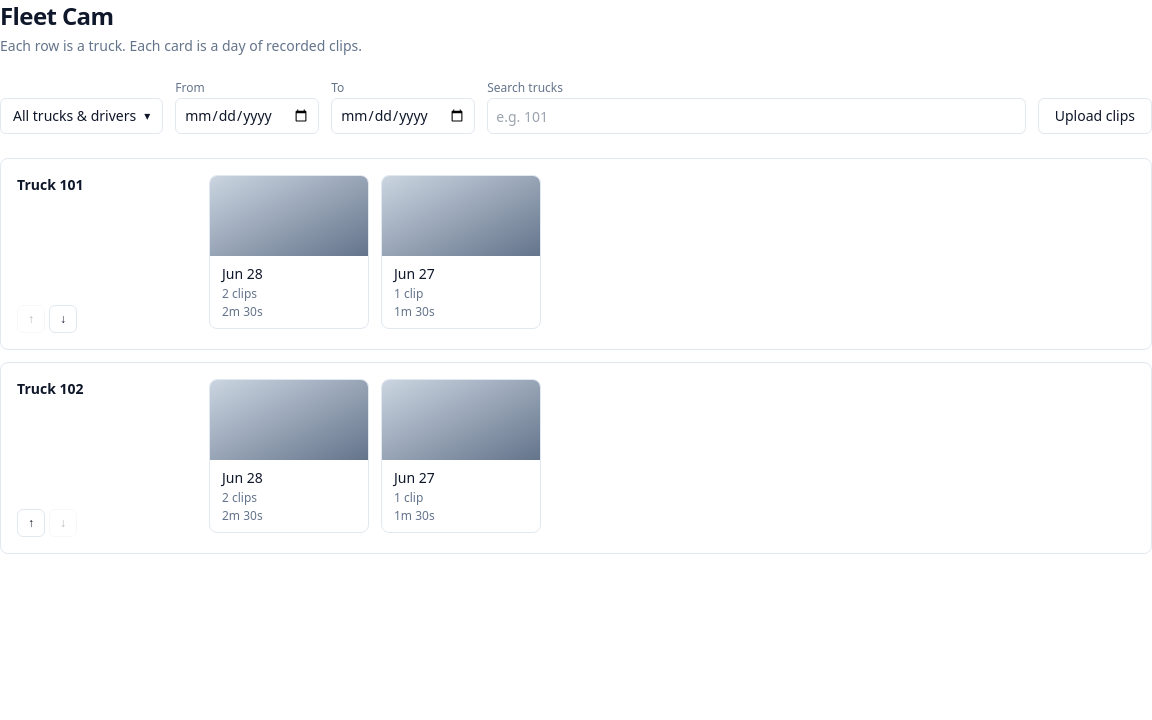
it: DashcamPage › commits picker selection to the URL via Apply
The width and height of the screenshot is (1152, 720).
Click the button with test id "truck-driver-picker-trigger": (82, 116) [0, 98, 163, 134]
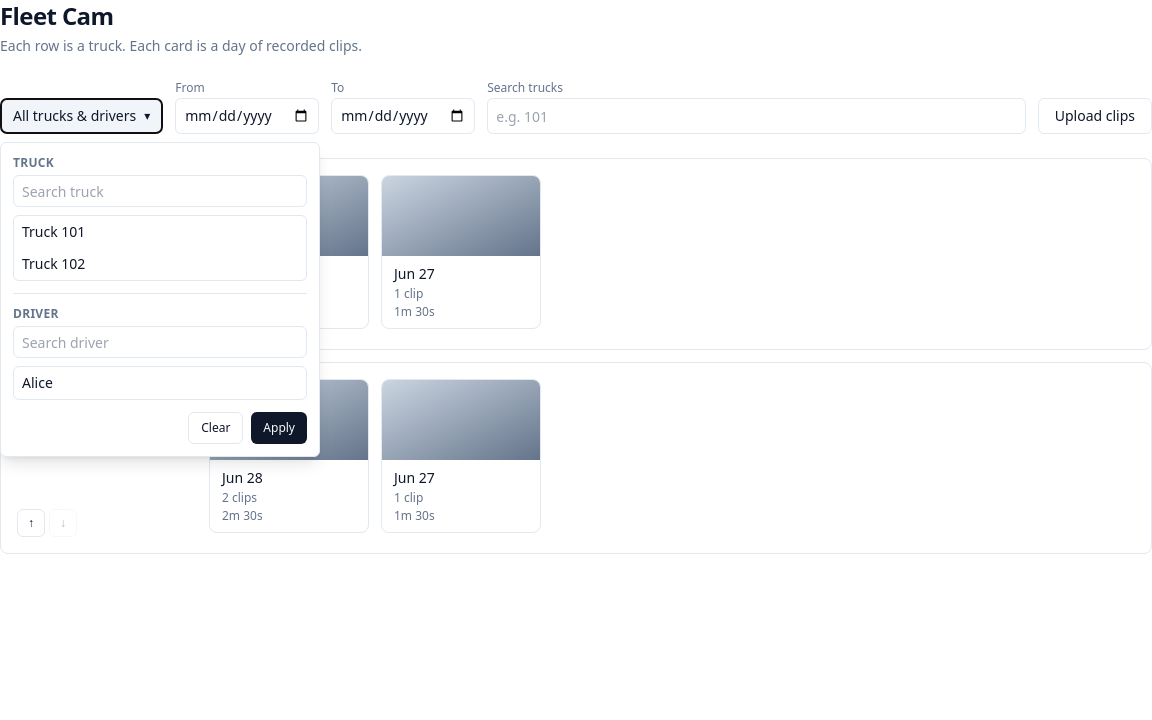
Click the button with test id "truck-driver-picker-truck-t2": (54, 264) [14, 248, 306, 280]
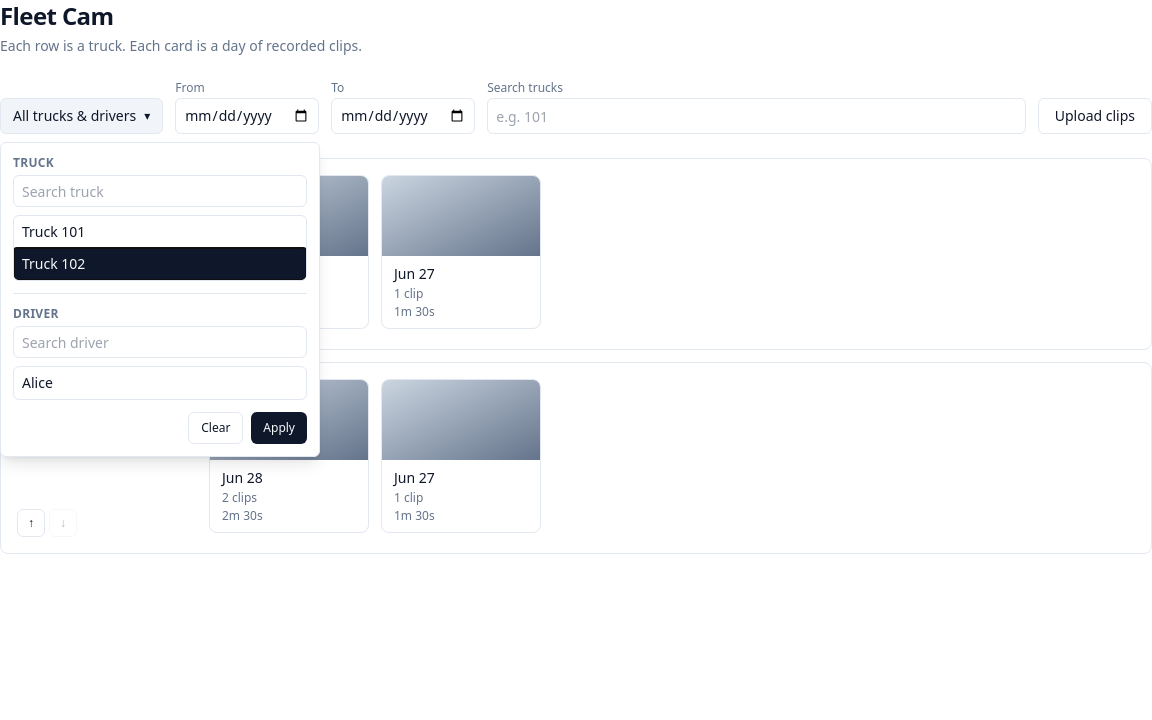
Click the button with test id "truck-driver-picker-apply": (279, 428) [251, 412, 307, 444]
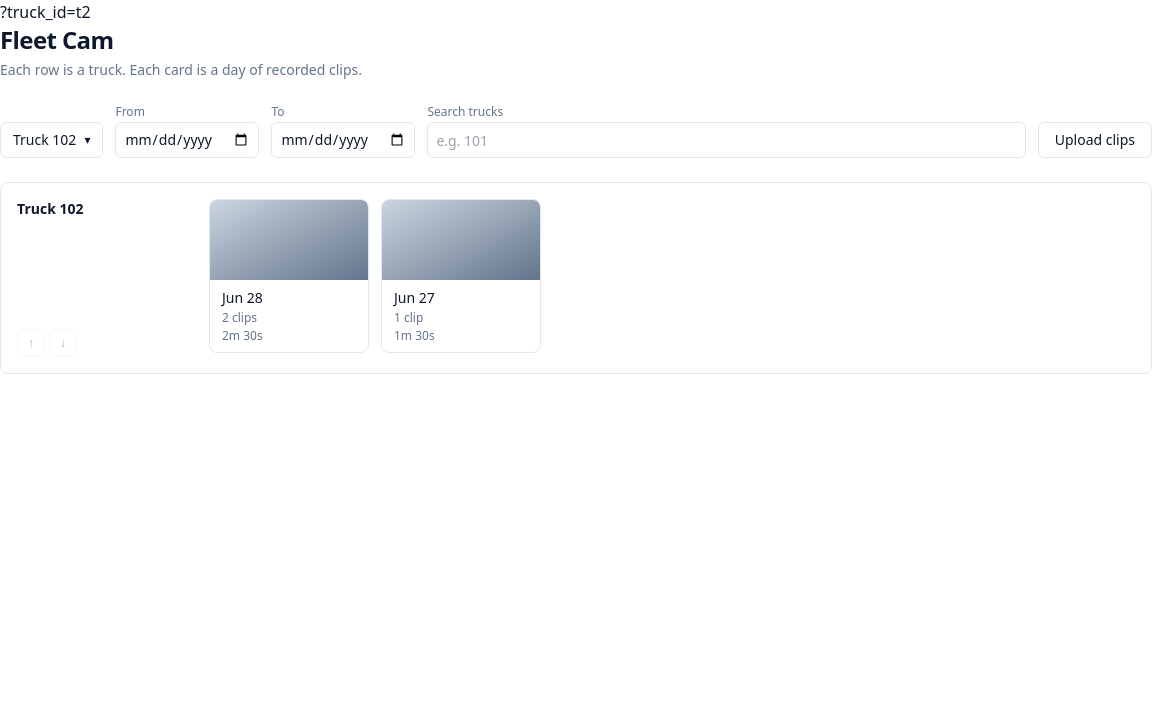
Expected: the element with test id "truck-row-t2" is shown, [0, 182, 1151, 374]
Now the text with test id "location-search" shows "truck_id=t2", box [0, 1, 91, 23]
Now the element with test id "truck-row-t1" is gone
